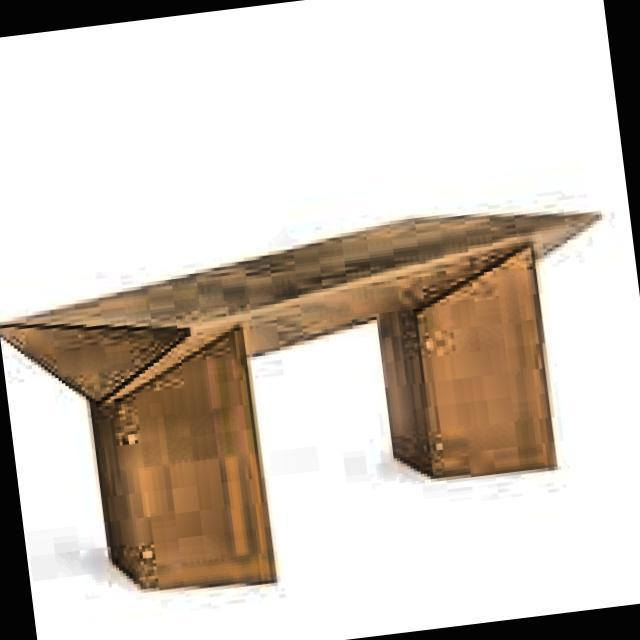cardboard: (0, 188, 640, 611)
